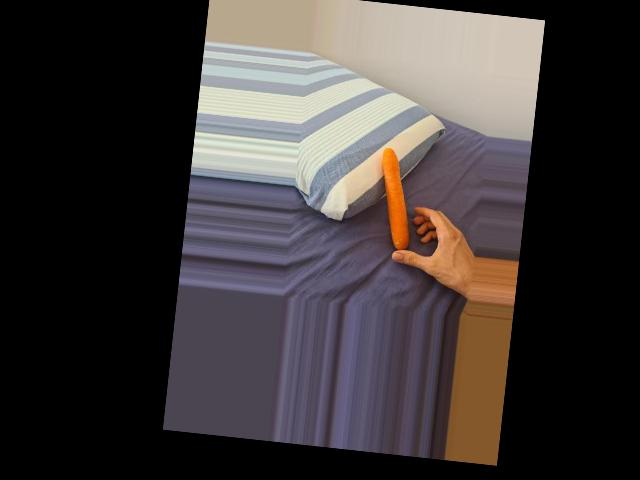carrot: (372, 148, 419, 252)
